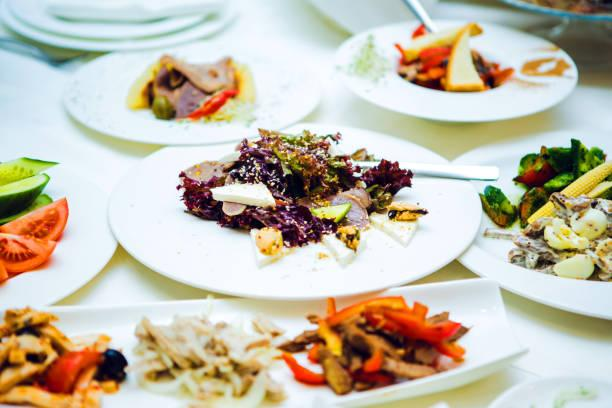Braised Crucian Carp: (106, 125, 479, 300), (62, 43, 322, 147), (330, 18, 575, 126)
